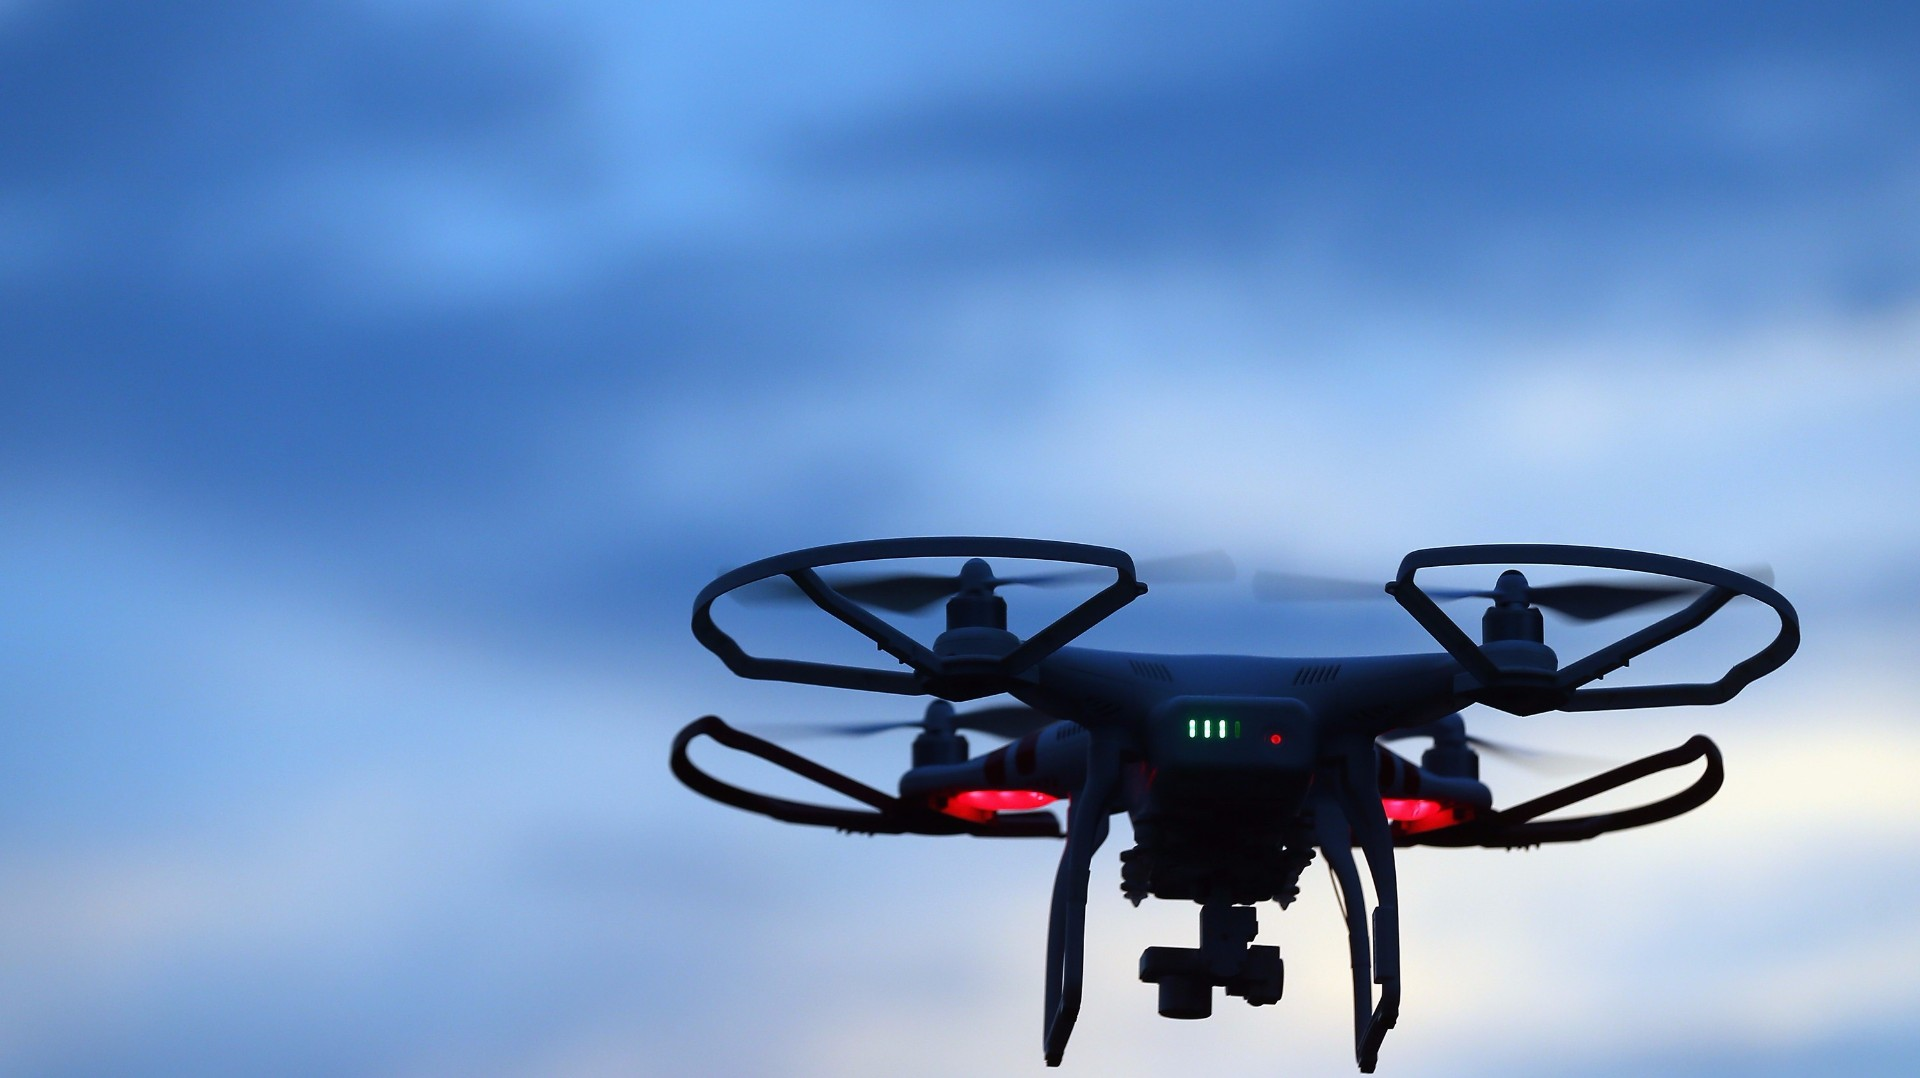drone: (666, 538, 1803, 1075)
